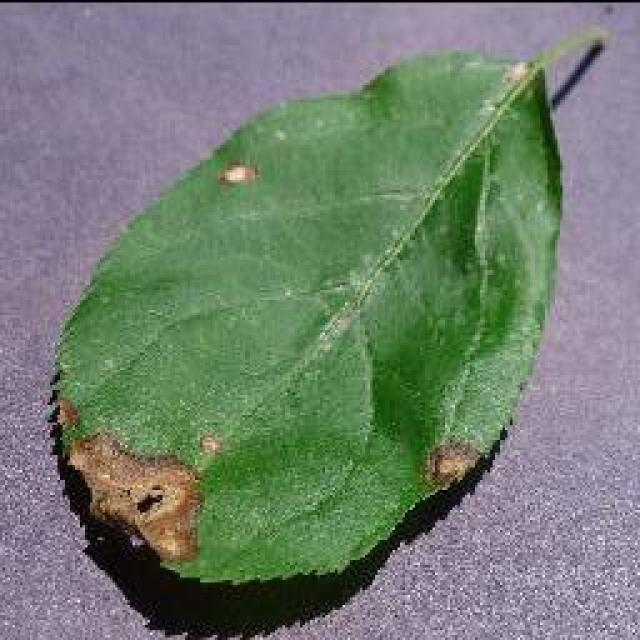black_rot: (52, 368, 210, 570), (413, 434, 493, 489), (216, 156, 268, 194)
